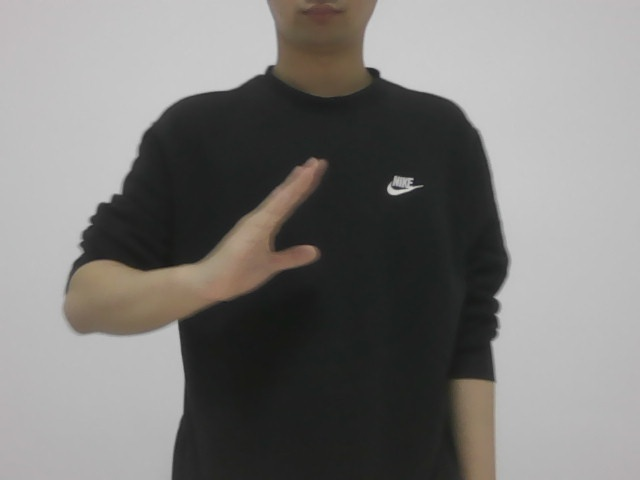morning: (212, 155, 347, 304)
